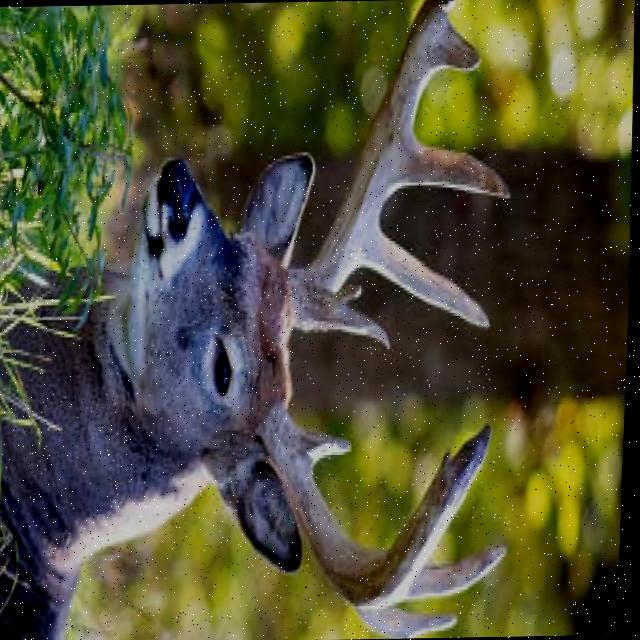L-G1: (315, 296, 392, 348)
L-G2: (358, 222, 492, 326)
L-G3: (396, 129, 512, 197)
R-F: (262, 396, 495, 609)
R-G1: (301, 428, 354, 464)
